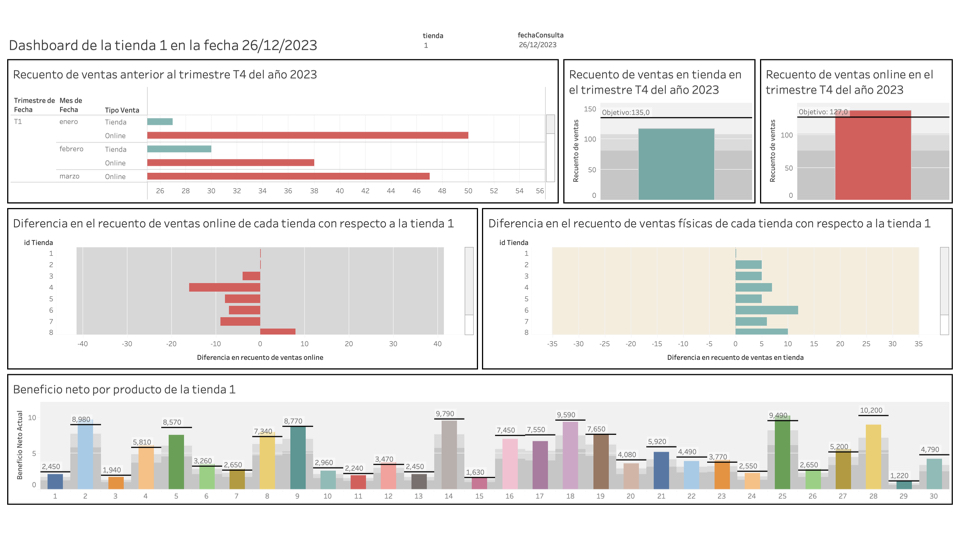

Layout of this report page (visuals, bound fields, positions):
{"tool":"tableau","page":{"name":"Dashboard 1","canvas":[1000,1000],"units":"permille","ordinal":0},"visuals":[{"type":"parameter","param":"[Parameters].[Parámetro 2]","box":[539.4,2.1,93.7,53.5]},{"type":"parameter","param":"[Parameters].[Parámetro 1]","box":[440.4,3.2,93.7,51.3]},{"type":"title","box":[4.7,9.4,990.5,49.4]},{"type":"worksheet","title":"barrasVentas","mark":"Bar","rows":["fecha","fecha","tipoVenta"],"cols":["ventasTipo.csv_39D134C7D37740C7995C97B36062CBD8"],"box":[4.7,58.8,579.7,308.7]},{"type":"worksheet","title":"balaTienda","mark":"Automatic","rows":["Calculation_3456090538844168198"],"cols":["tipoVenta"],"box":[584.4,58.8,205.4,308.7]},{"type":"worksheet","title":"balaOnline","mark":"Automatic","rows":["Calculation_3456090538844168198"],"cols":["tipoVenta"],"box":[789.8,58.8,205.5,308.7]},{"type":"worksheet","title":"diferenciasTiendasOnline","mark":"Bar","rows":["id_tienda"],"box":[4.7,367.5,495.3,343.3]},{"type":"worksheet","title":"diferenciasTiendasFisica","mark":"Bar","rows":["id_tienda"],"box":[500,367.5,495.3,343.3]},{"type":"worksheet","title":"balasProductos","mark":"Automatic","rows":["beneficioNetoActual"],"cols":["id_producto"],"box":[4.7,710.9,990.5,279.7]}]}

Visuals, with their boxes on the dashboard's canvas, which has no fixed pixel size, in thousandths of its width and height (x1, y1, x2, y2). These are canvas units, not pixel positions in the 960x540 screenshot, which may show the page scaled, cropped or inside an application window:
parameter: (539, 2, 633, 56)
parameter: (440, 3, 534, 54)
title: (5, 9, 995, 59)
"barrasVentas" worksheet (Bar marks): (5, 59, 584, 368)
"balaTienda" worksheet: (584, 59, 790, 368)
"balaOnline" worksheet: (790, 59, 995, 368)
"diferenciasTiendasOnline" worksheet (Bar marks): (5, 368, 500, 711)
"diferenciasTiendasFisica" worksheet (Bar marks): (500, 368, 995, 711)
"balasProductos" worksheet: (5, 711, 995, 991)
